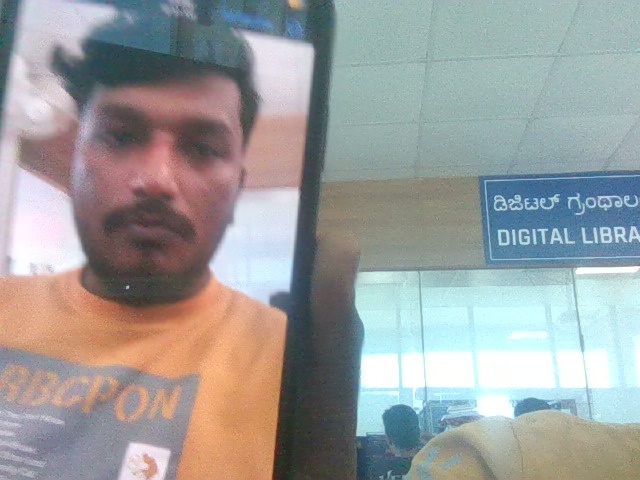fake: (45, 0, 274, 324)
